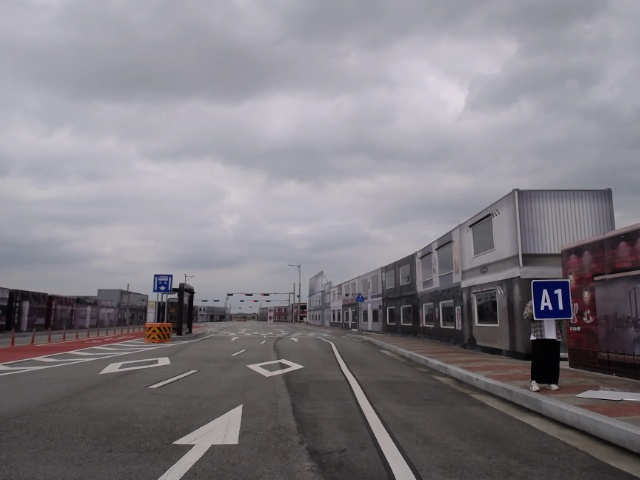delivery_a1: (532, 280, 572, 320)
